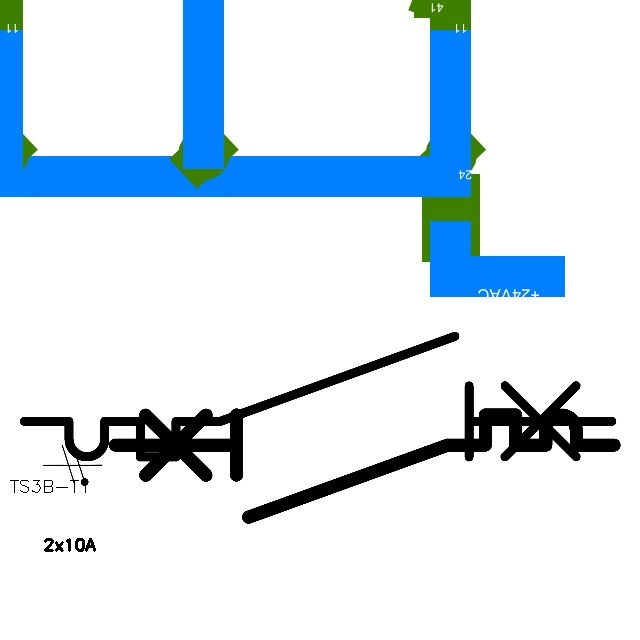interruptor_termomagnetico: (9, 321, 627, 472), (102, 402, 626, 530)
